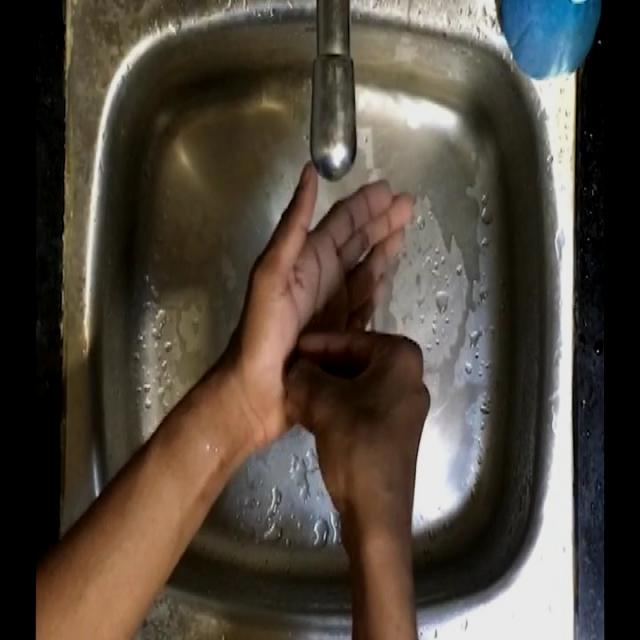step_6: (230, 158, 442, 498)
